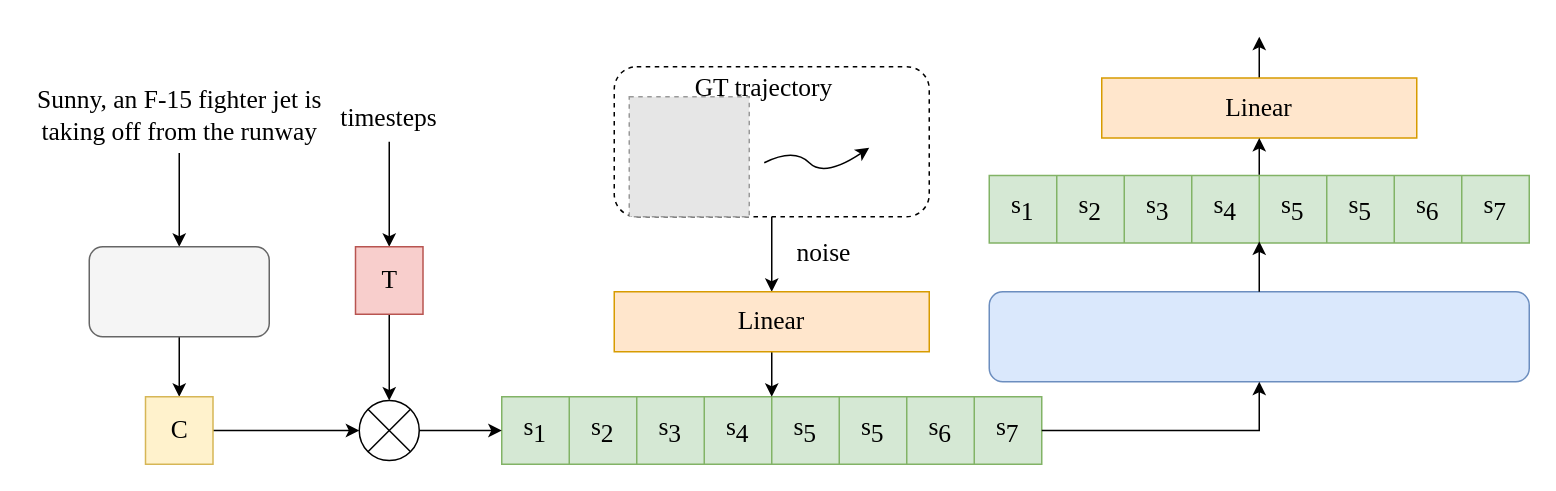
The diagram is 1556 pixels wide and 491 high, and some of its shapes have lost their labels. Grey dashed boxes stand in for pictures. Each missing label, with the box of its shape:
CLIP Encoder: (88, 245, 269, 337)
Transformer: (988, 290, 1529, 382)
